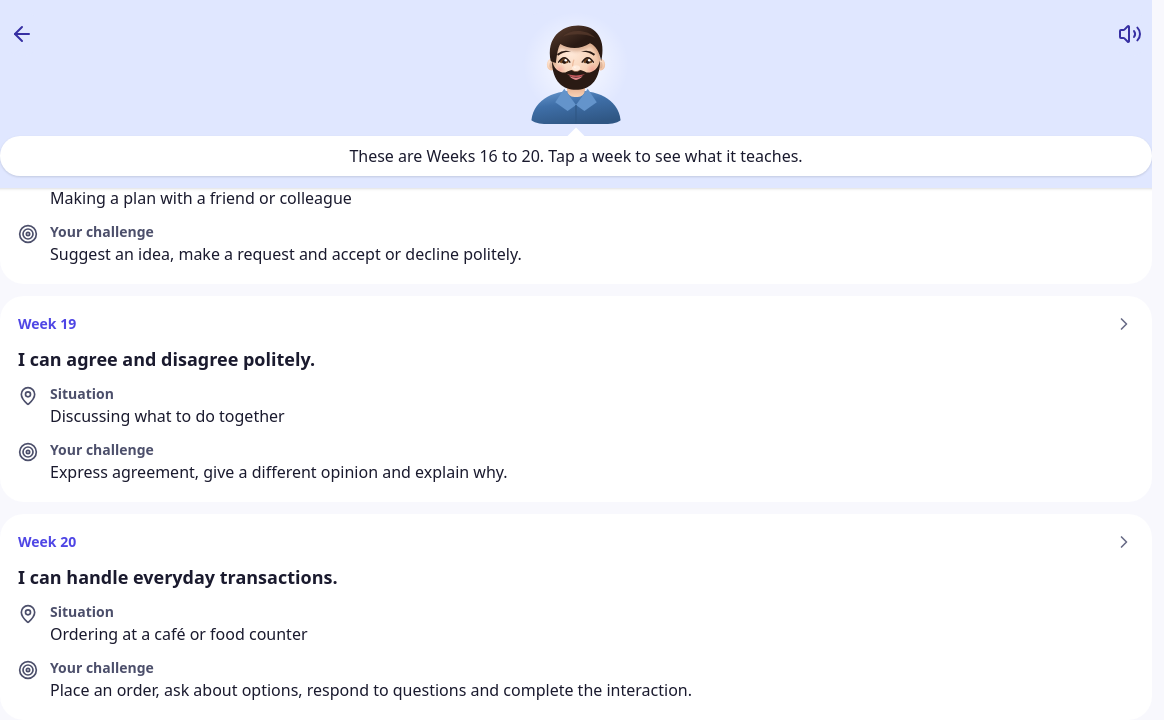
Test: SectionPage › opens a week’s overview from its card
(page scrolled)
Step 1. Click the link "I can handle everyday transactions." → [178, 577], box [18,565,338,589]
(page scrolled)
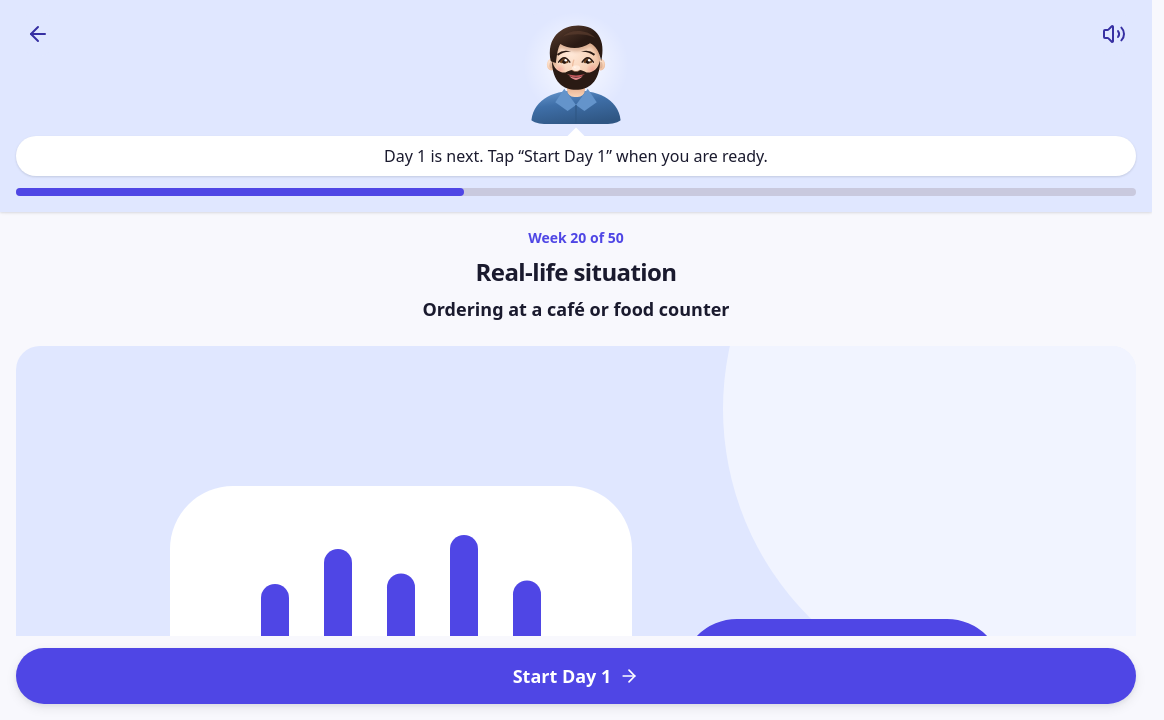
Check: the heading "Real-life situation" is shown, box [476,255,676,288]
